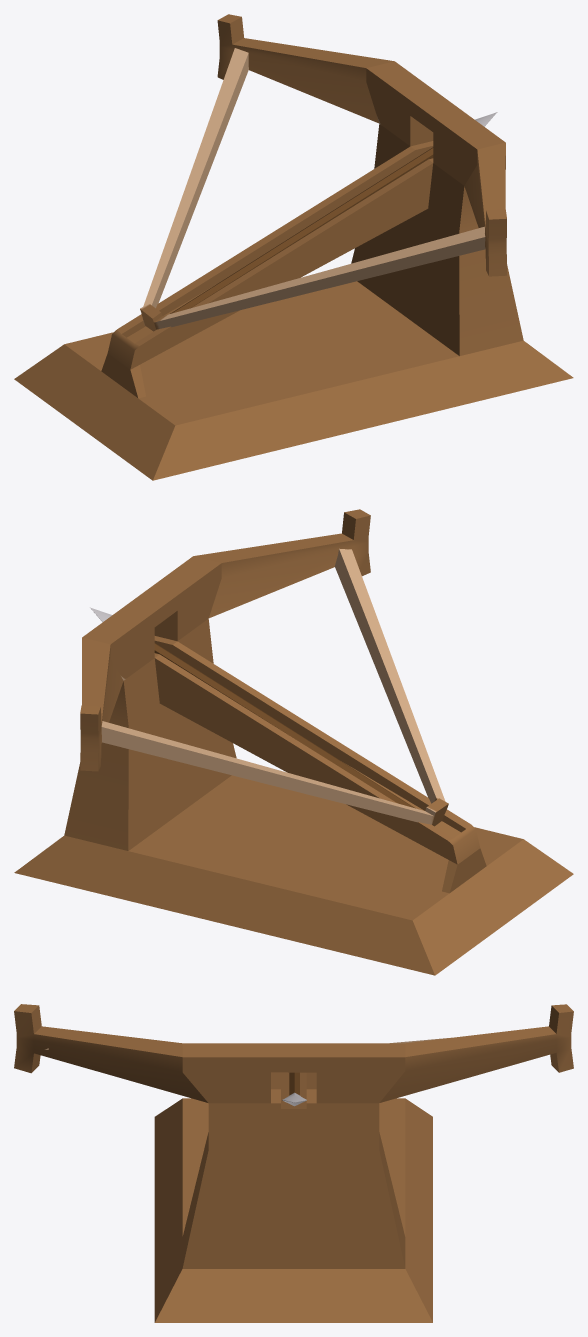
Rendered from Ballista.fbx.
3 renders of one model, top to bottom at view 1: azimuth 30°, elevation 25°; view 2: azimuth 150°, elevation 25°; view 3: azimuth 270°, elevation 25°, orthographic.
Visible parts, largest first — view 1: Ballista; view 2: Ballista; view 3: Ballista.
Part boxes in pixels (box(x1,y1,x2,y2)): Ballista: box(14, 14, 573, 480); Ballista: box(14, 509, 573, 975); Ballista: box(14, 1004, 573, 1322).
Size of the model in its own units: 97.34 by 54.25 by 112.
